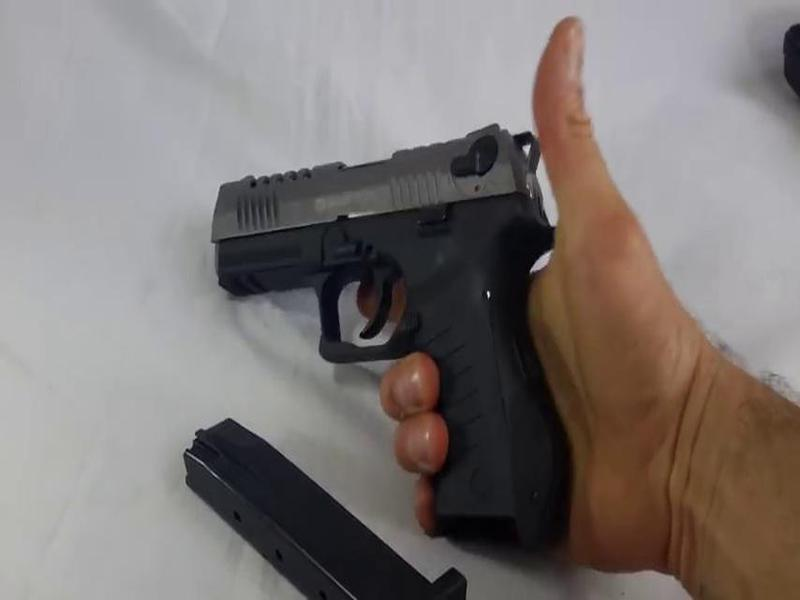Pistola: (187, 118, 566, 446)
